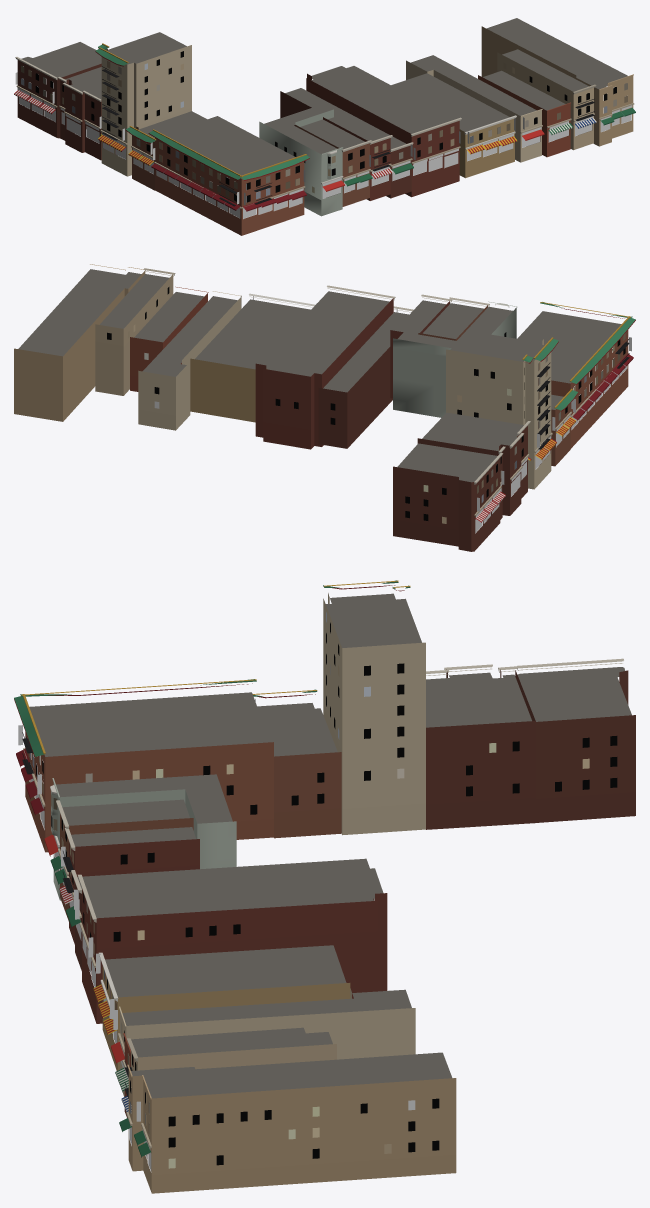
3 views of the same model, one above another, from view 1: azimuth 30°, elevation 25°; view 2: azimuth 150°, elevation 25°; view 3: azimuth 270°, elevation 25° (orthographic). The views are drawn at different scales.
Parts seen in each view (by area): view 1: L1_roof, L1_brickred, L1_brick, L1_stucco, L1_shopint, L1_win, L1_d_fabric, L1_d_brick, L1_stone, L1_sign, L1_rooftile, L1_d_brickred (+3 smaller); view 2: L1_roof, L1_brickred, L1_brick, L1_d_brick, L1_stucco, L1_d_brickred, L1_d_stucco, L1_win, L1_stone, L1_d_fabric, L1_rooftile, L1_shopint (+3 smaller); view 3: L1_roof, L1_brickred, L1_brick, L1_d_brick, L1_win, L1_d_stucco, L1_d_fabric, L1_stucco, L1_stone, L1_d_brickred, L1_d_paint, L1_sign (+1 smaller).
Part boxes in pixels (x1,y1,x2,y2): L1_roof: (21, 18, 627, 178); L1_brickred: (17, 60, 570, 235); L1_brick: (101, 45, 633, 176); L1_stucco: (259, 119, 514, 216); L1_shopint: (19, 97, 631, 218); L1_win: (21, 51, 627, 202); L1_d_fabric: (14, 90, 635, 211); L1_d_brick: (406, 26, 599, 162); L1_stone: (15, 57, 634, 208); L1_sign: (15, 72, 632, 210); L1_rooftile: (95, 44, 309, 179); L1_d_brickred: (101, 75, 546, 200); L1_roof: (18, 269, 621, 482); L1_brickred: (130, 298, 628, 551); L1_brick: (95, 274, 551, 489); L1_d_brick: (14, 270, 241, 429); L1_stucco: (393, 307, 516, 417); L1_d_brickred: (163, 293, 555, 519); L1_d_stucco: (190, 358, 267, 422); L1_win: (107, 287, 625, 523); L1_stone: (90, 264, 629, 516); L1_d_fabric: (475, 353, 633, 522); L1_rooftile: (523, 302, 635, 410); L1_shopint: (475, 364, 626, 532); L1_roof: (29, 593, 631, 1098); L1_brickred: (25, 669, 635, 1117); L1_brick: (120, 593, 456, 1193); L1_d_brick: (126, 1008, 415, 1143); L1_win: (26, 612, 617, 1168); L1_d_stucco: (60, 789, 350, 1070); L1_d_fabric: (16, 749, 150, 1157); L1_stucco: (51, 783, 236, 1070); L1_stone: (23, 658, 623, 1148); L1_d_brickred: (69, 818, 387, 1066); L1_d_paint: (14, 580, 410, 757); L1_sign: (18, 699, 255, 1150).
Bounding box in the file's own units: 130 × 36.74 × 87.2.
